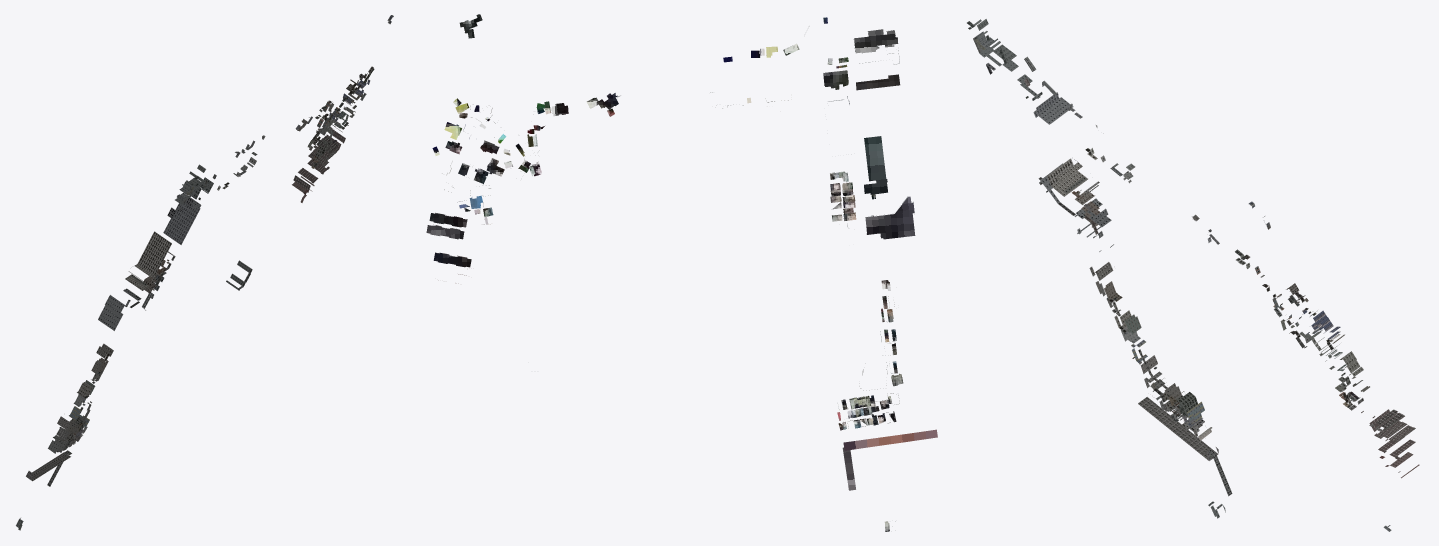
File: tile_LOD4_r1_c1.glb
3 views of the same model, side by side, from view 1: azimuth 30°, elevation 25°; view 2: azimuth 150°, elevation 25°; view 3: azimuth 270°, elevation 25° (orthographic). The views are drawn at different scales.
Bounding box in the file's own units: 678 × 643 × 462.
442 materials, 442 textured.
